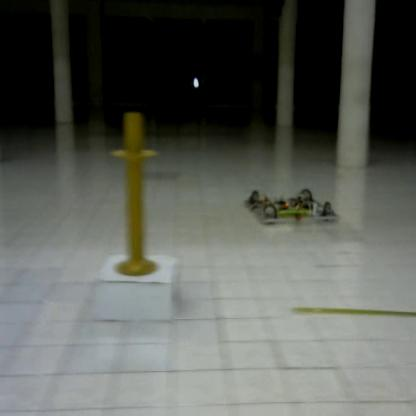pole: (107, 107, 171, 281)
